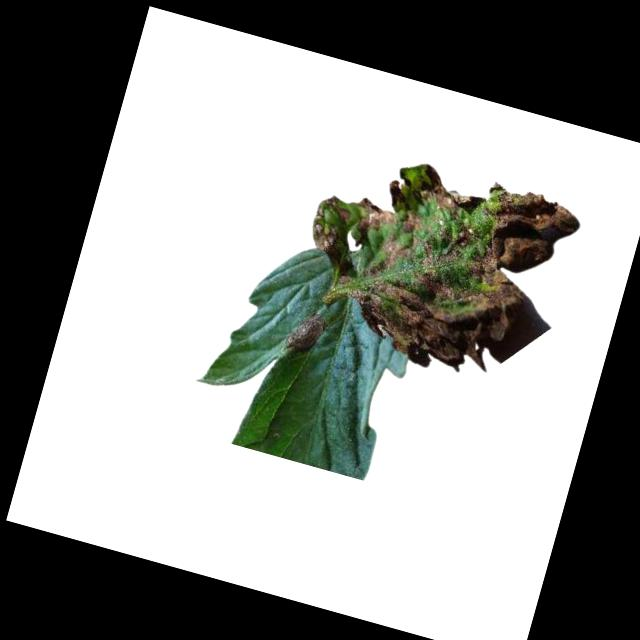Early_blight: (286, 136, 584, 387), (281, 309, 328, 361)
